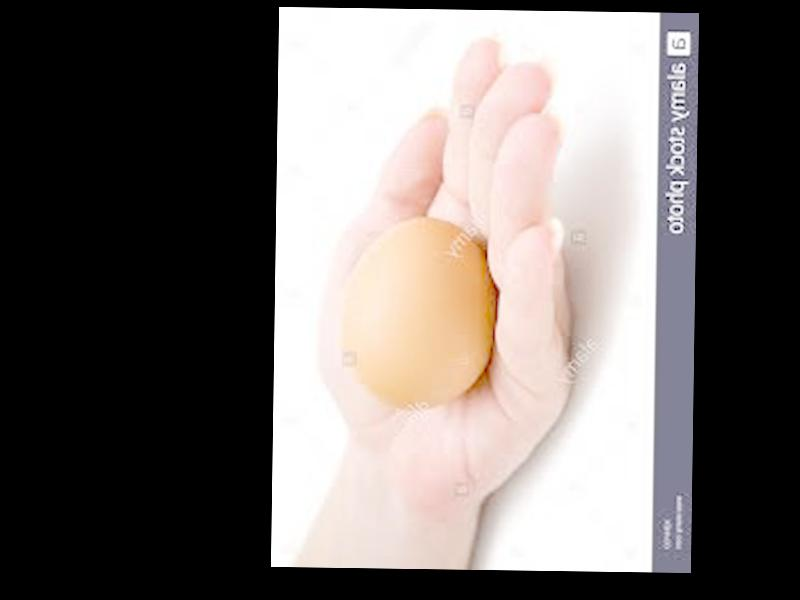Eggs: (337, 217, 495, 412)
